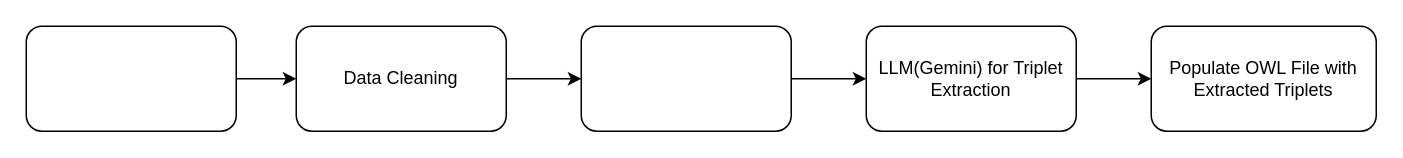
The diagram is 1403 pixels wide and 158 high, and some of its shapes have lost their labels. Here are the shapes that lost their labels. From the top down, the centre of each, then its label:
At point 130,78: "Data Collection".
At point 685,78: "Prompt Engineering".
